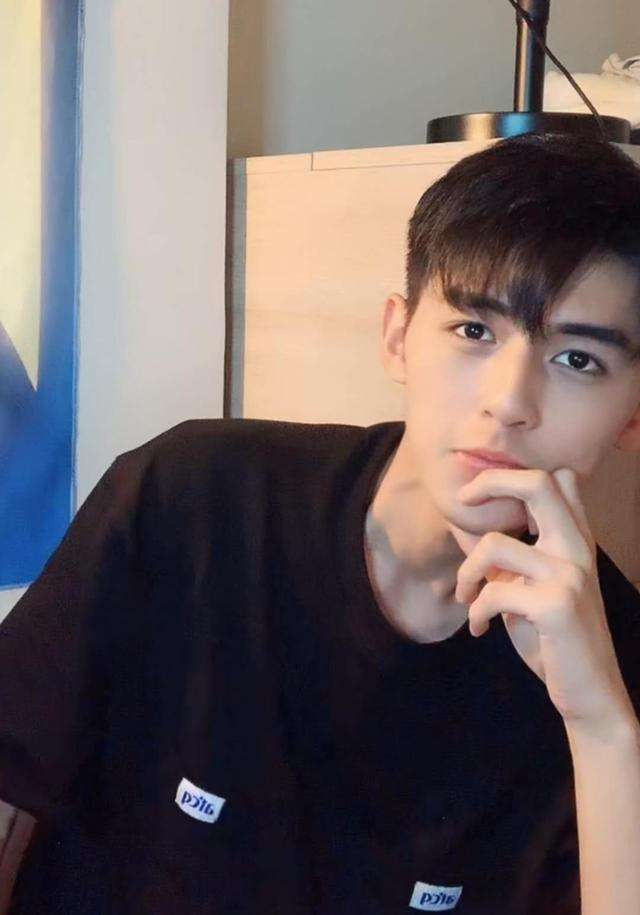person: (344, 179, 640, 863)
